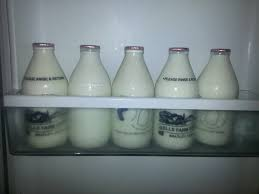milk: (23, 37, 66, 147), (113, 42, 153, 154), (155, 44, 196, 150), (70, 44, 109, 149), (200, 44, 236, 146)
